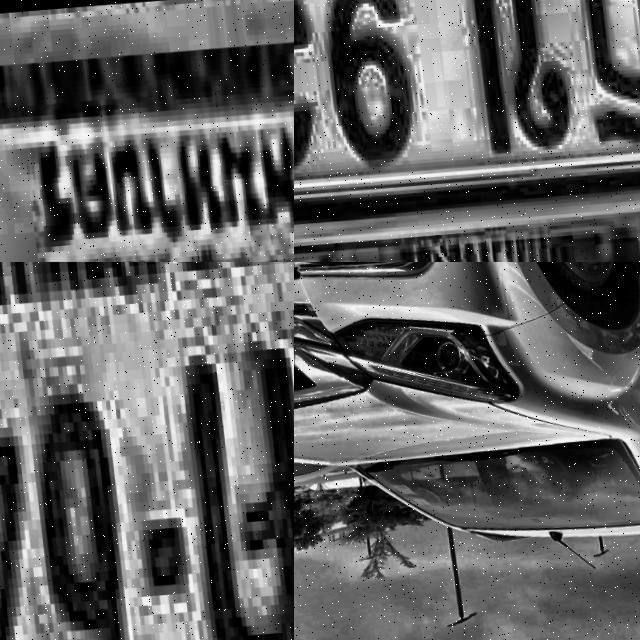license-plate: (0, 262, 294, 640), (294, 0, 640, 224), (0, 16, 294, 262)
